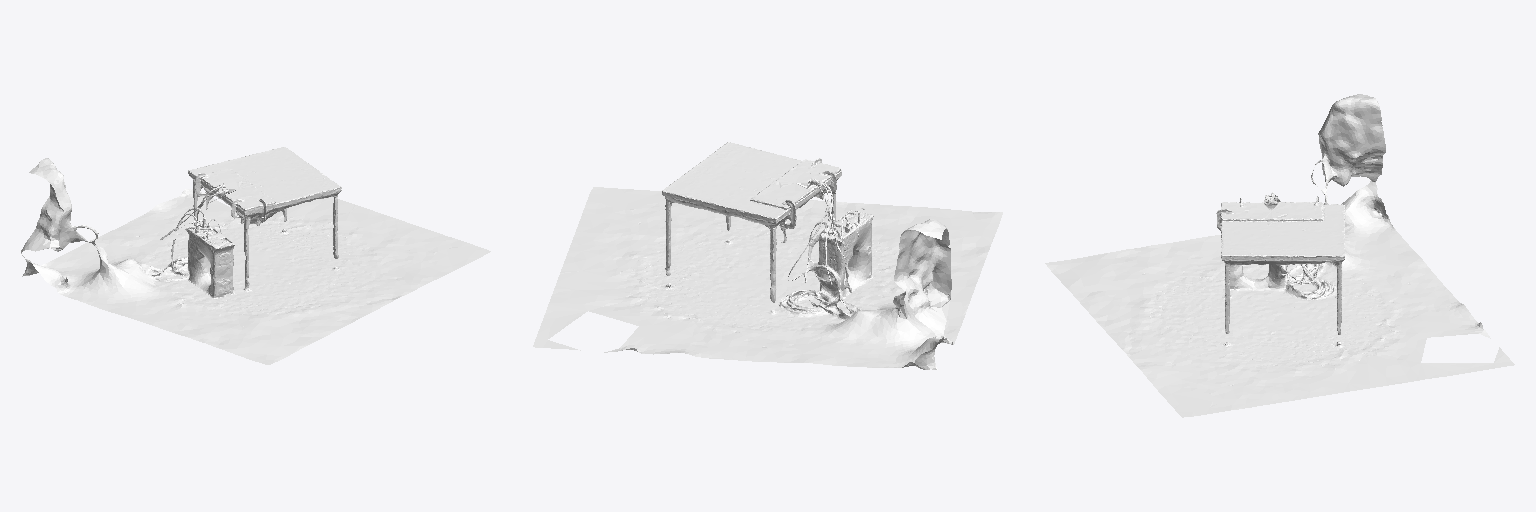
URDF robot description (table):
<?xml version="1.0" ?>
<robot name="table">
  <link name="baseLink">
    <contact>
      <lateral_friction value="1.0"/>
      <rolling_friction value="0.0"/>
      <contact_cfm value="0.0"/>
      <contact_erp value="1.0"/>
    </contact>
    <inertial>
      <origin rpy="0 0 0" xyz="0 0 0"/>
       <mass value="1.0"/>
       <inertia ixx="1" ixy="0" ixz="0" iyy="1" iyz="0" izz="1"/>
    </inertial>
    <visual>
      <origin rpy="1.57079632679 0 0" xyz="0 0 0"/>
      <geometry>
				<mesh filename="environment.obj" scale="1 1 1"/>
      </geometry>
      <material name="white">
        <color rgba="1 1 1 1"/>
      </material>
    </visual>
    <collision>
      <origin rpy="1.57079632679 0 0" xyz="0 0 0"/>
      <geometry>
	 	        <mesh filename="environment.obj" scale="1 1 1"/>
      </geometry>
    </collision>
  </link>
</robot>

--- Render facts (derived) ---
3 views of the same robot in one strip: view 1: azimuth 30°, elevation 25°; view 2: azimuth 150°, elevation 25°; view 3: azimuth 270°, elevation 25° (orthographic).
Model table with 1 links and 0 joints (none), rooted at baseLink, posed every joint at zero.
Visible links, largest first — view 1: baseLink; view 2: baseLink; view 3: baseLink.
Boxes of the visible links, left/top/right/bottom form: baseLink: left=21, top=147, right=490, bottom=364; baseLink: left=533, top=142, right=1002, bottom=369; baseLink: left=1045, top=94, right=1514, bottom=417.
Size in the robot's own frame: 3.61 by 3.5 by 1.05 metres.
1 mesh visuals loaded from 1 distinct referenced files (1 OBJ).